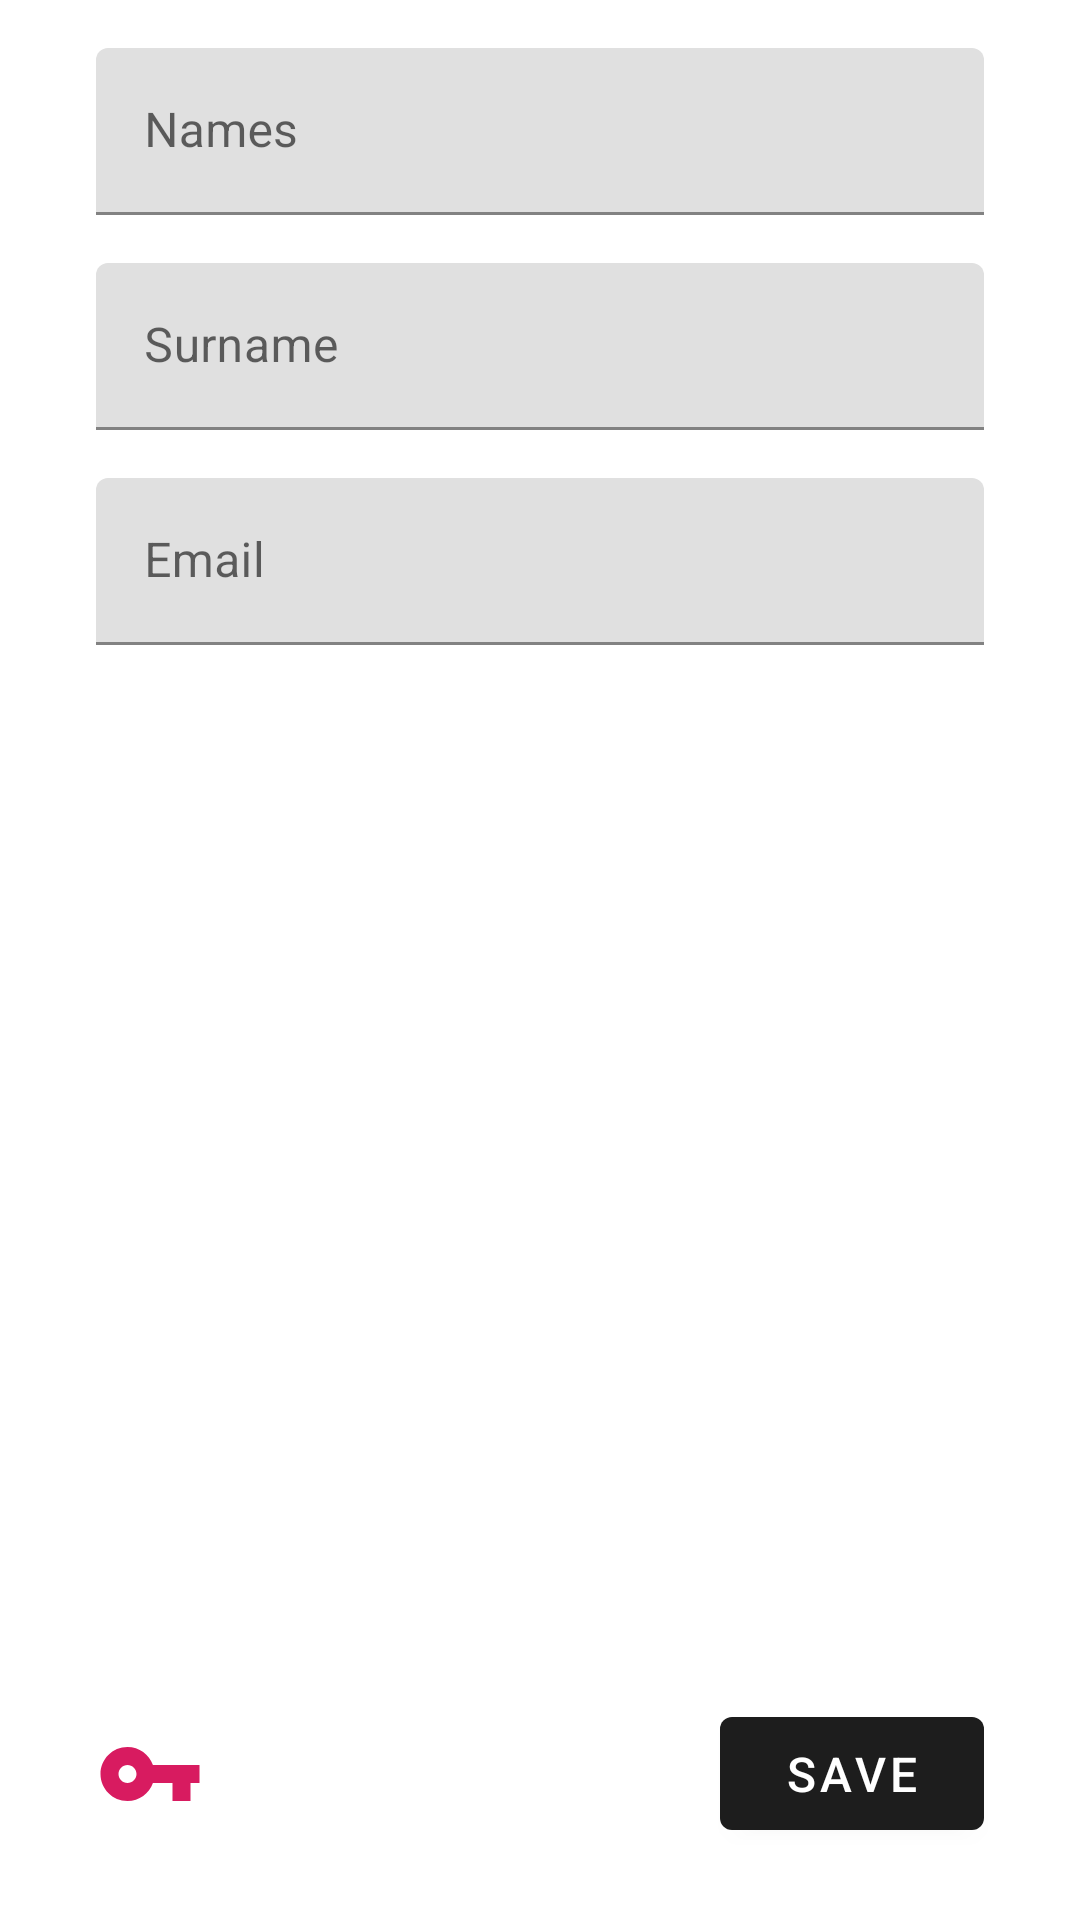

Icons on this 1080px x 1920px Android screen, each with the point to tap as [x,y]:
password: [150,1774]
